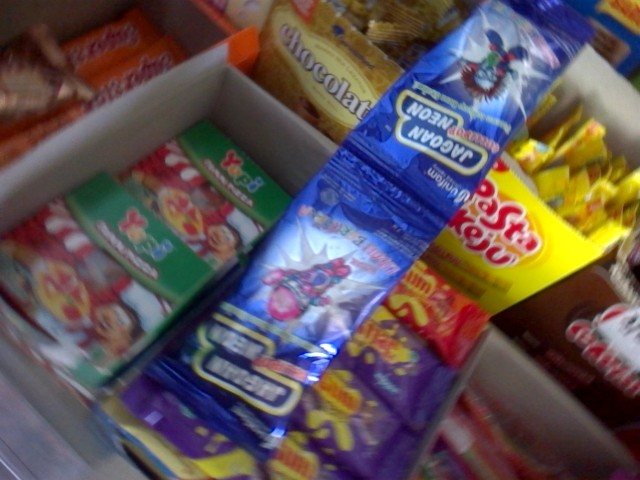jagoan neon: (149, 153, 440, 461), (339, 1, 593, 230)
